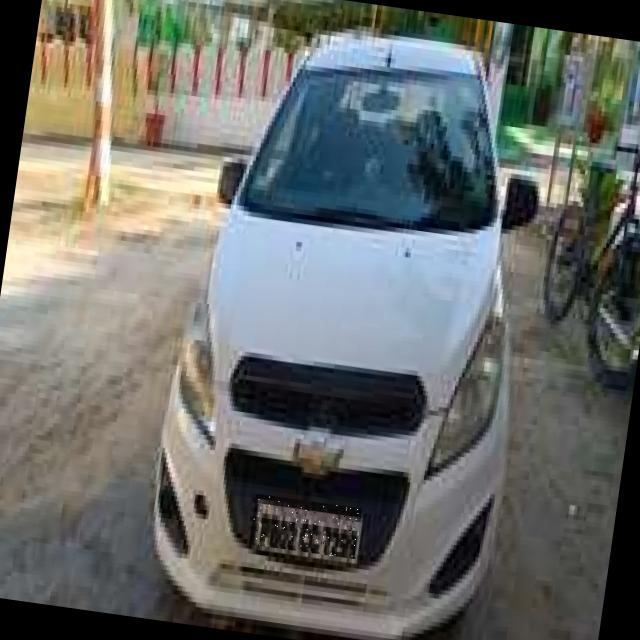Plate: (250, 495, 363, 560)
